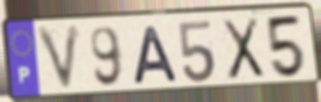5: (265, 12, 308, 80), (178, 18, 218, 85)
9: (89, 25, 126, 89)
A: (130, 23, 181, 86)
V: (34, 22, 84, 96)
X: (219, 16, 266, 83)
